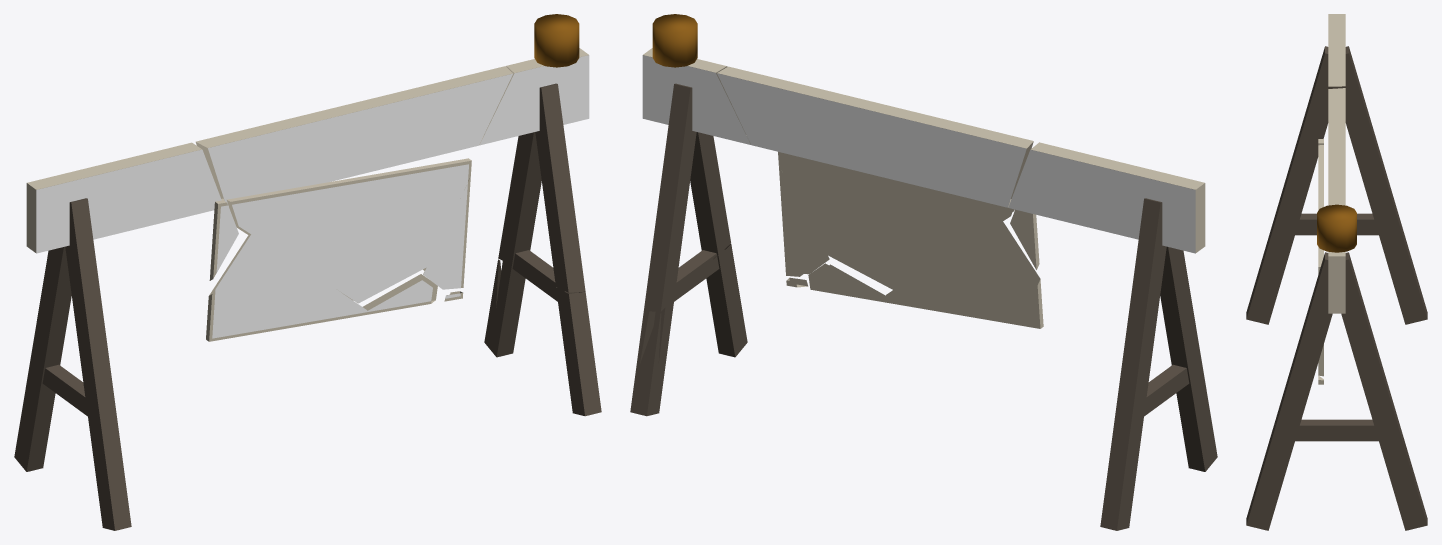
The model's file is barricade.glb.
The picture shows the model from 3 angles, left to right: view 1: azimuth 30°, elevation 25°; view 2: azimuth 150°, elevation 25°; view 3: azimuth 270°, elevation 25°; orthographic projection. The views are drawn at different scales.
Parts seen in each view (by area): view 1: chunk_1, chunk_2, chunk_0, chunk_6, chunk_5, chunk_4, chunk_3; view 2: chunk_1, chunk_2, chunk_0, chunk_6, chunk_5, chunk_4, chunk_3; view 3: chunk_2, chunk_0, chunk_5, chunk_1, chunk_3, chunk_6, chunk_4.
Boxes of the visible parts, x1,y1,x2,y2 form: chunk_1: (195, 66, 513, 303); chunk_2: (21, 142, 238, 510); chunk_0: (423, 14, 589, 292); chunk_6: (100, 234, 367, 530); chunk_5: (444, 261, 601, 416); chunk_4: (363, 259, 501, 352); chunk_3: (14, 405, 53, 471); chunk_1: (717, 66, 1033, 290); chunk_2: (1008, 142, 1214, 478); chunk_0: (642, 14, 829, 311); chunk_6: (886, 221, 1217, 471); chunk_5: (631, 244, 808, 413); chunk_4: (630, 263, 888, 416); chunk_3: (1100, 460, 1136, 530); chunk_2: (1252, 14, 1414, 292); chunk_0: (1275, 204, 1403, 443); chunk_5: (1246, 375, 1425, 530); chunk_1: (1318, 88, 1345, 274); chunk_3: (1387, 256, 1427, 324); chunk_6: (1246, 268, 1281, 324); chunk_4: (1402, 435, 1427, 526).
Size of the model in its own units: 2 by 1.23 by 0.6317.
